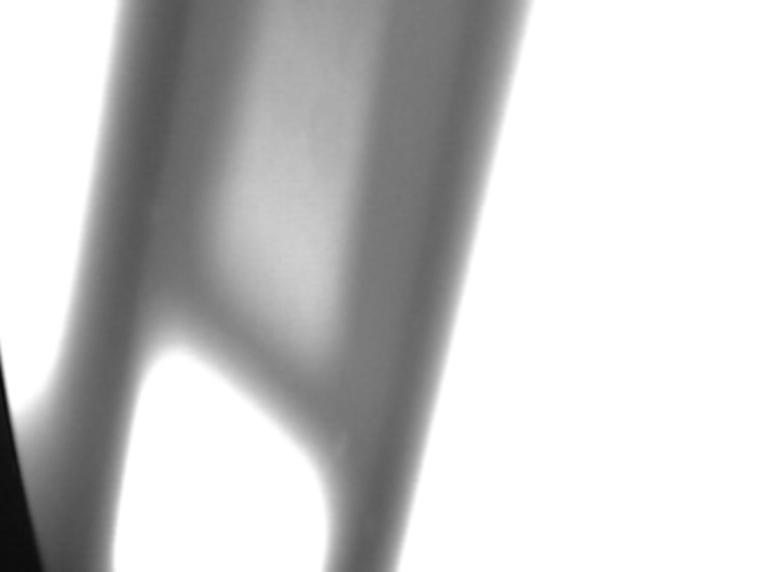defect: (152, 202, 166, 239)
